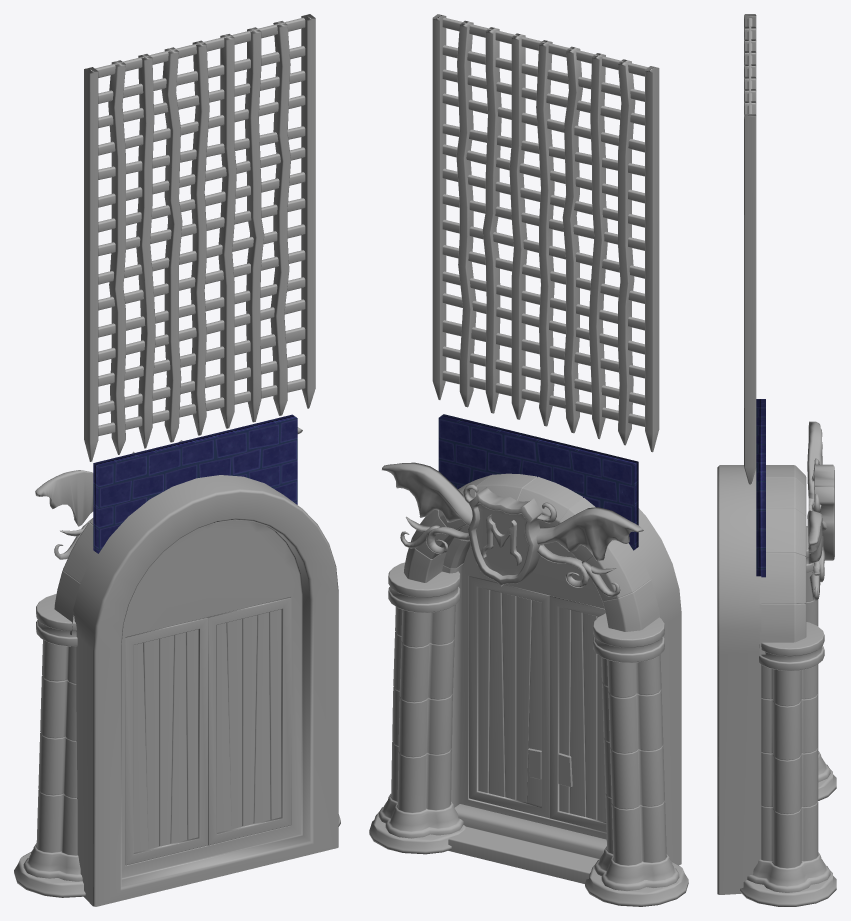
Rendered from hub_grand_doorway.fbx.
3 views of the same model, side by side, from view 1: azimuth 30°, elevation 25°; view 2: azimuth 150°, elevation 25°; view 3: azimuth 270°, elevation 25° (orthographic). The views are drawn at different scales.
Parts seen in each view (by area): view 1: grand_doorway, grand_door_porticullis, grand_door_1, grand_door_2, grand_door_brick_cutout, grand_doorway_design; view 2: grand_doorway, grand_door_porticullis, grand_door_1, grand_doorway_design, grand_door_2, grand_door_brick_cutout; view 3: grand_doorway, grand_door_porticullis, grand_doorway_design, grand_door_brick_cutout.
Part boxes in pixels (box(x1,y1,x2,y2)): grand_doorway: box(14, 475, 340, 906); grand_door_porticullis: box(84, 14, 315, 461); grand_door_1: box(207, 597, 291, 845); grand_door_2: box(125, 617, 207, 865); grand_door_brick_cutout: box(93, 414, 297, 553); grand_doorway_design: box(35, 427, 302, 559); grand_doorway: box(369, 473, 688, 906); grand_door_porticullis: box(432, 14, 659, 452); grand_door_1: box(469, 576, 549, 818); grand_doorway_design: box(382, 462, 643, 597); grand_door_2: box(549, 596, 606, 832); grand_door_brick_cutout: box(438, 414, 638, 550); grand_doorway: box(717, 465, 836, 906); grand_door_porticullis: box(744, 14, 756, 484); grand_doorway_design: box(807, 421, 834, 600); grand_door_brick_cutout: box(756, 399, 765, 577).
Size of the model in its own units: 35.18 by 88.58 by 12.42.
2 materials, 1 textured.
